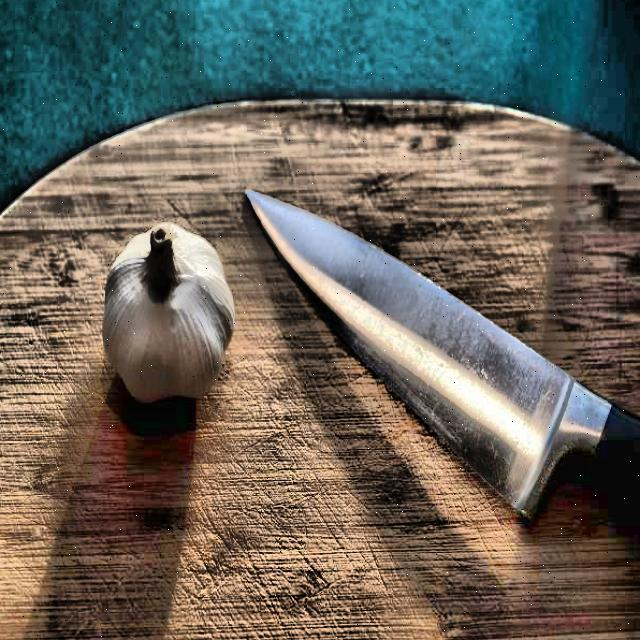knife: (247, 182, 640, 530)
